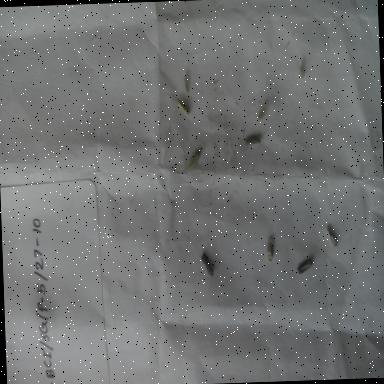pbw: (254, 91, 272, 124), (177, 66, 194, 96), (170, 98, 192, 121), (324, 222, 339, 250), (200, 250, 214, 278), (185, 149, 203, 169), (294, 258, 314, 276), (243, 133, 262, 151), (264, 236, 276, 263), (295, 56, 307, 80)
